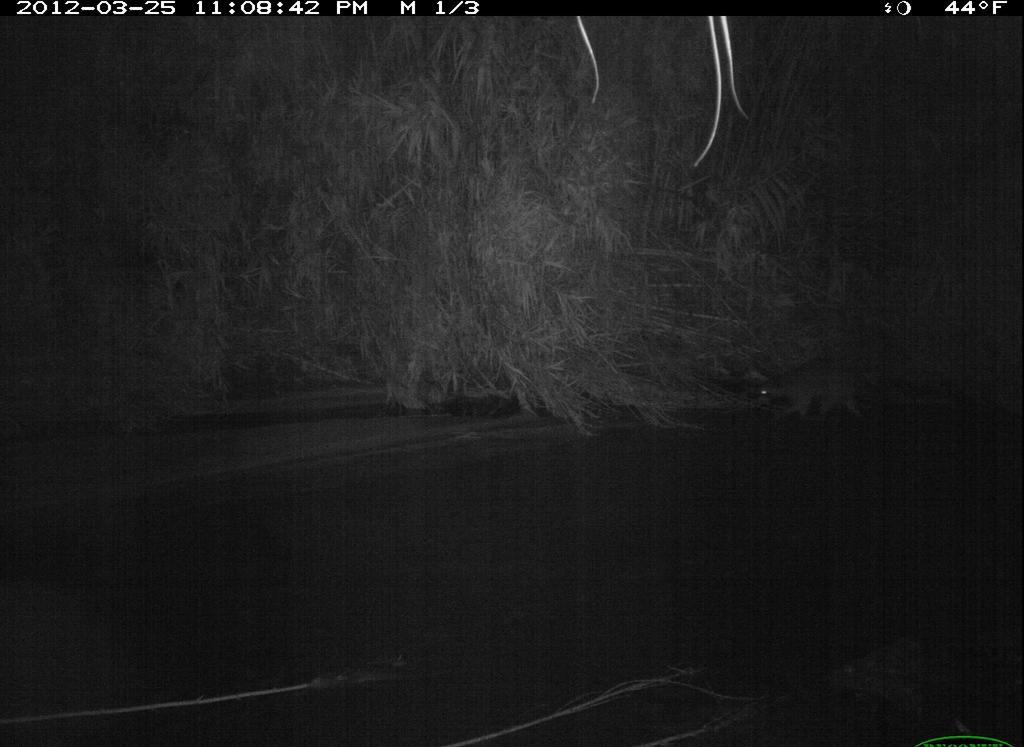raccoon: (744, 350, 880, 425)
